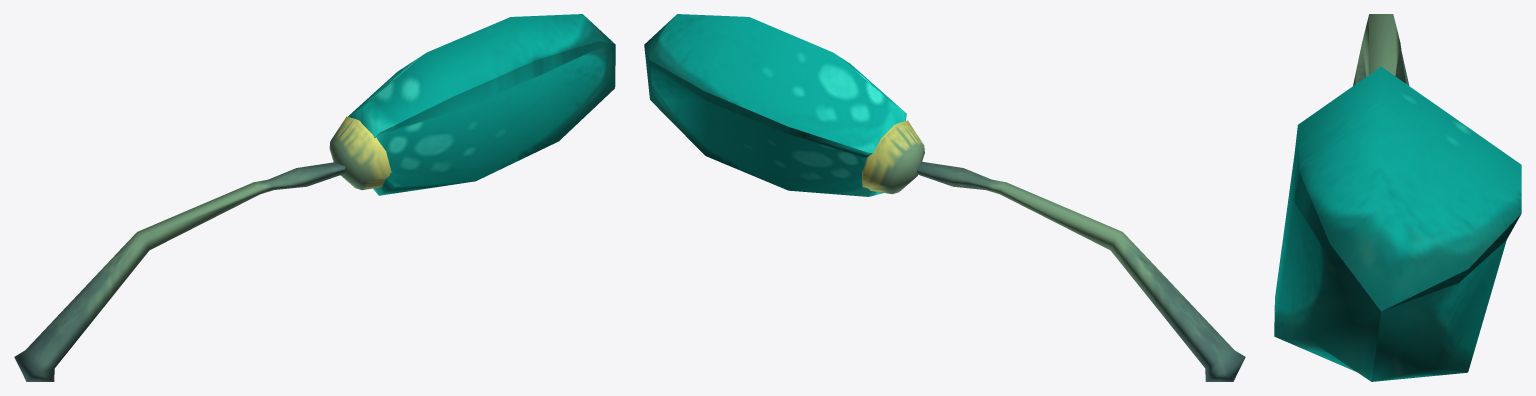
Rendered from bud_flowerTeal.fbx.
3 renders of one model, left to right at view 1: azimuth 30°, elevation 25°; view 2: azimuth 150°, elevation 25°; view 3: azimuth 270°, elevation 25°, orthographic. The views are drawn at different scales.
Visible parts, largest first — view 1: bud_flowerTeal; view 2: bud_flowerTeal; view 3: bud_flowerTeal.
Boxes of the visible parts, <box> form: bud_flowerTeal: <box>14,14,615,381</box>; bud_flowerTeal: <box>644,14,1245,381</box>; bud_flowerTeal: <box>1274,14,1521,381</box>.
Size of the model in its own units: 0.5512 by 0.2202 by 0.1066.
